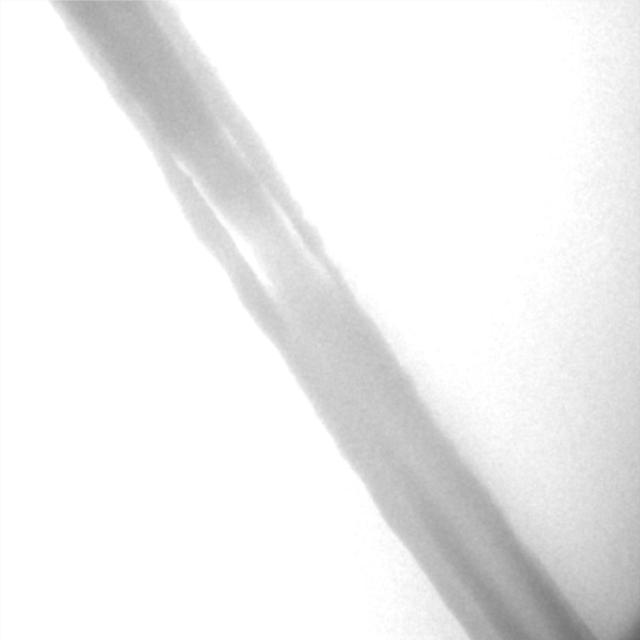unfused: (170, 121, 323, 302)
